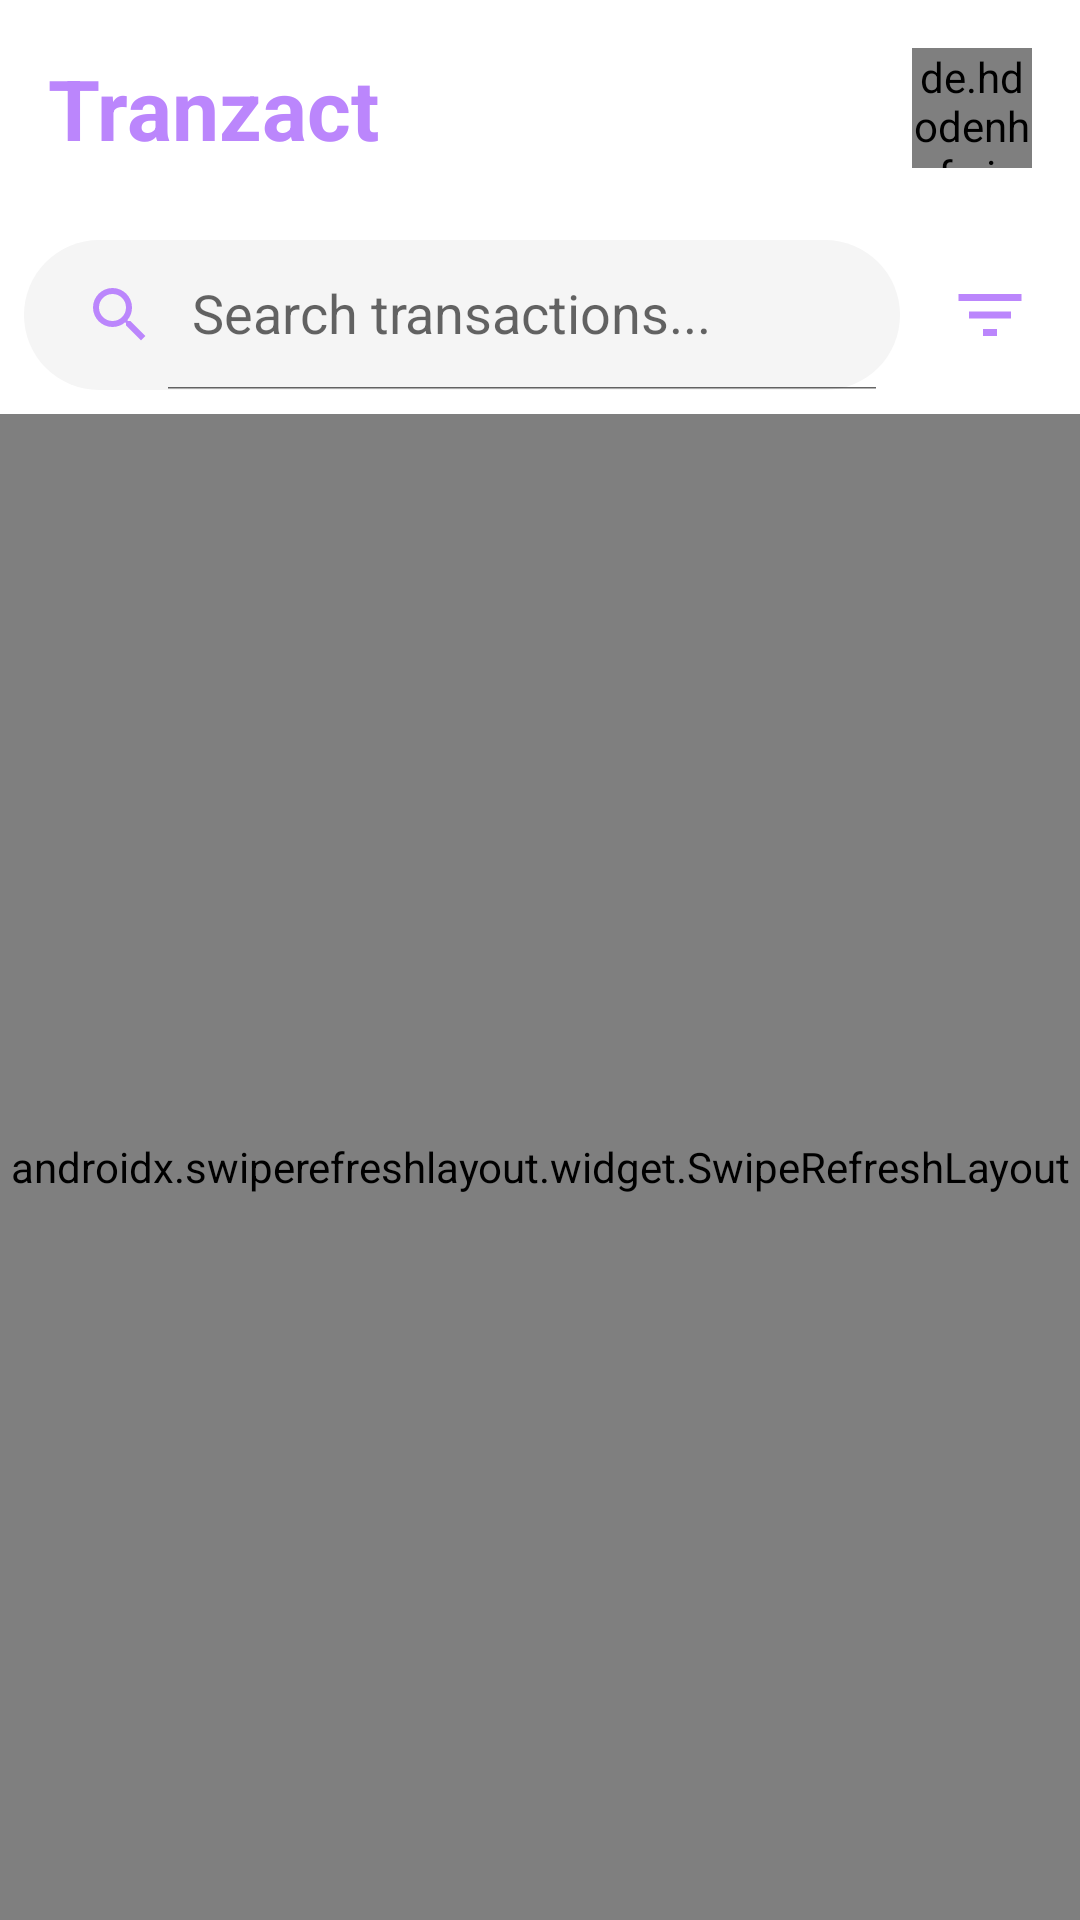

Point at icon controls on the screen. Image size 1080x1920, points as [x,y].
Filter transactions: [990,315]
